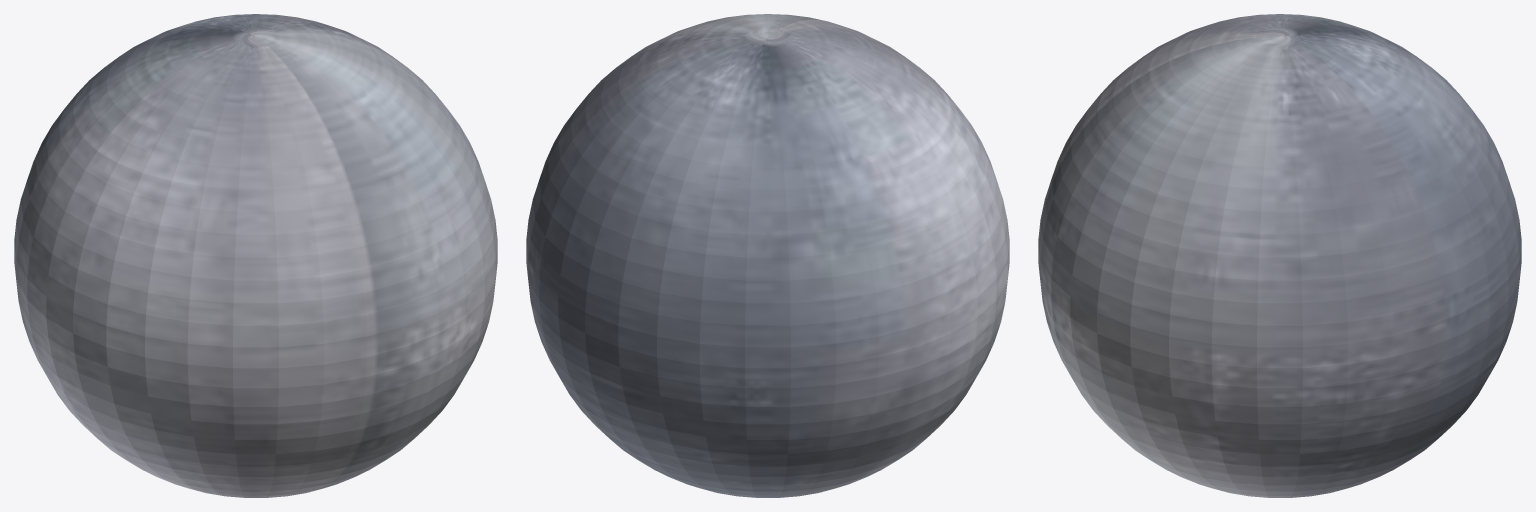
The model's file is ball3.obj.
3 renders of one model, left to right at view 1: azimuth 30°, elevation 25°; view 2: azimuth 150°, elevation 25°; view 3: azimuth 270°, elevation 25°, orthographic.
Visible parts, largest first — view 1: Sphere_Sphere.001; view 2: Sphere_Sphere.001; view 3: Sphere_Sphere.001.
Boxes of the visible parts, x1,y1,x2,y2 form: Sphere_Sphere.001: (14, 14, 497, 497); Sphere_Sphere.001: (526, 14, 1009, 497); Sphere_Sphere.001: (1038, 14, 1521, 497).
Size of the model in its own units: 3.95 by 3.96 by 3.95.
Materials: 1 (1 with a texture image).
